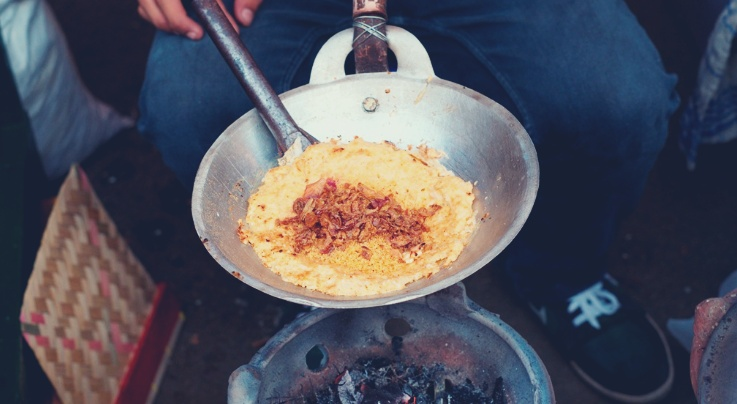kerak_telor: (217, 122, 489, 303)
